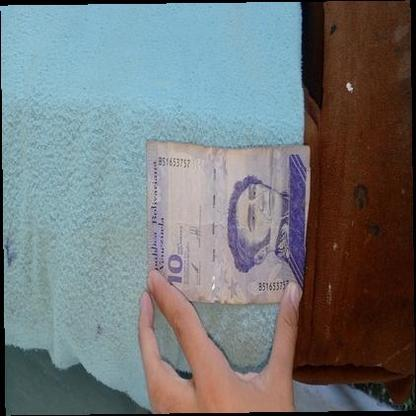ten-front-vef: (144, 138, 310, 306)
